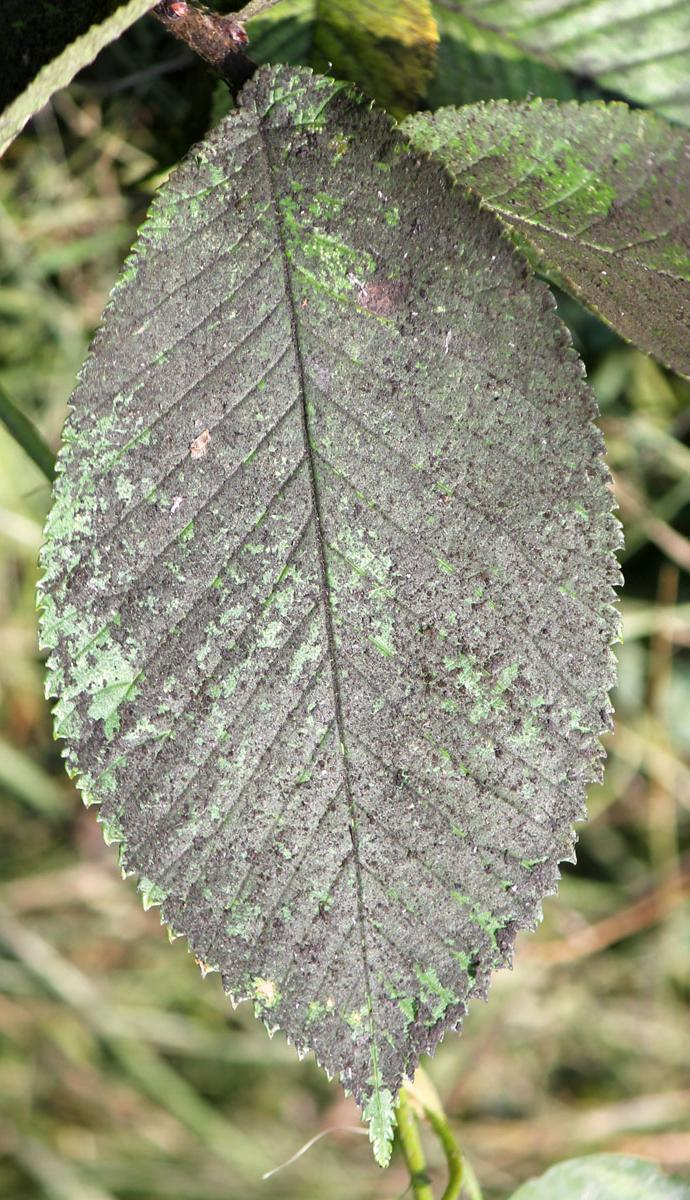soot dew: (42, 67, 616, 1162), (399, 99, 689, 377)
